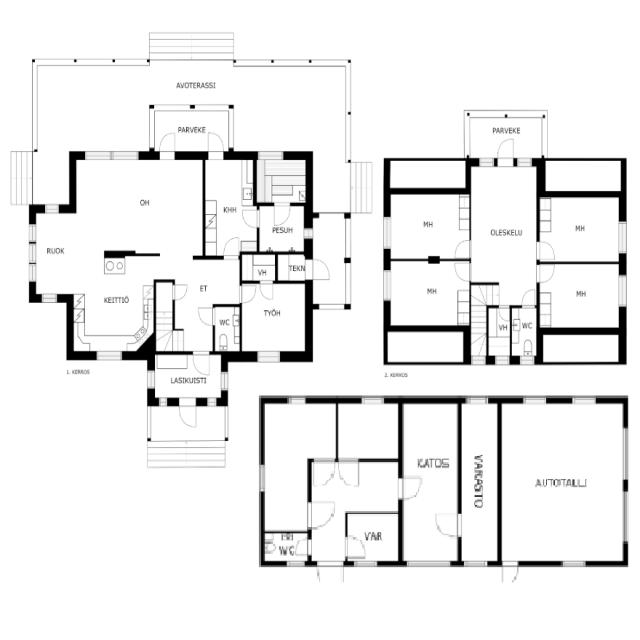door: (397, 414, 457, 555), (261, 202, 303, 247), (305, 497, 337, 533), (314, 558, 346, 591), (432, 509, 464, 541), (335, 454, 363, 490), (494, 135, 520, 170), (176, 396, 200, 432), (397, 472, 424, 504), (342, 532, 369, 561), (205, 128, 227, 161), (157, 128, 178, 161), (221, 232, 243, 262), (499, 559, 521, 588), (270, 201, 292, 230), (307, 257, 332, 282), (239, 204, 263, 230), (534, 238, 558, 263), (191, 349, 212, 377), (195, 304, 218, 329), (452, 236, 474, 261), (452, 258, 473, 284), (535, 261, 557, 285), (238, 280, 258, 306), (169, 281, 190, 304), (257, 278, 276, 303), (520, 286, 539, 310), (497, 305, 512, 324)
window: (80, 144, 143, 165), (24, 220, 41, 290), (314, 557, 346, 586), (277, 542, 311, 565), (619, 424, 632, 484), (404, 556, 453, 571), (344, 538, 374, 562), (620, 488, 632, 546), (91, 347, 127, 364), (380, 212, 394, 254), (566, 392, 602, 408), (615, 218, 629, 259), (252, 348, 285, 365), (616, 272, 630, 312), (380, 265, 394, 305), (356, 392, 391, 408), (518, 392, 551, 408), (254, 148, 287, 162), (461, 556, 491, 571), (37, 290, 63, 307), (350, 556, 381, 570), (256, 461, 268, 496), (144, 366, 158, 396), (40, 200, 63, 218), (557, 558, 589, 570), (282, 556, 309, 570), (284, 393, 310, 407), (462, 394, 492, 406), (516, 353, 537, 368), (303, 223, 316, 247), (468, 353, 488, 368), (302, 536, 315, 559), (513, 155, 535, 168), (476, 155, 496, 169), (219, 369, 230, 394), (492, 354, 512, 367), (204, 396, 219, 409), (156, 397, 170, 409)
zone: (499, 398, 628, 565), (73, 154, 203, 255), (400, 401, 459, 565), (469, 162, 538, 289), (73, 251, 156, 354), (460, 402, 499, 568), (538, 194, 622, 265), (386, 192, 472, 260), (538, 262, 622, 331), (203, 156, 258, 259), (388, 261, 470, 326), (241, 281, 309, 355), (260, 400, 338, 462), (335, 399, 401, 462), (155, 354, 229, 407), (262, 461, 311, 536), (36, 215, 74, 294), (387, 158, 470, 191), (253, 156, 310, 204), (324, 454, 379, 503), (346, 513, 400, 562), (538, 161, 626, 191), (257, 205, 308, 253), (262, 532, 311, 564), (512, 306, 538, 360), (213, 304, 242, 352), (239, 253, 277, 281), (276, 254, 310, 282)
